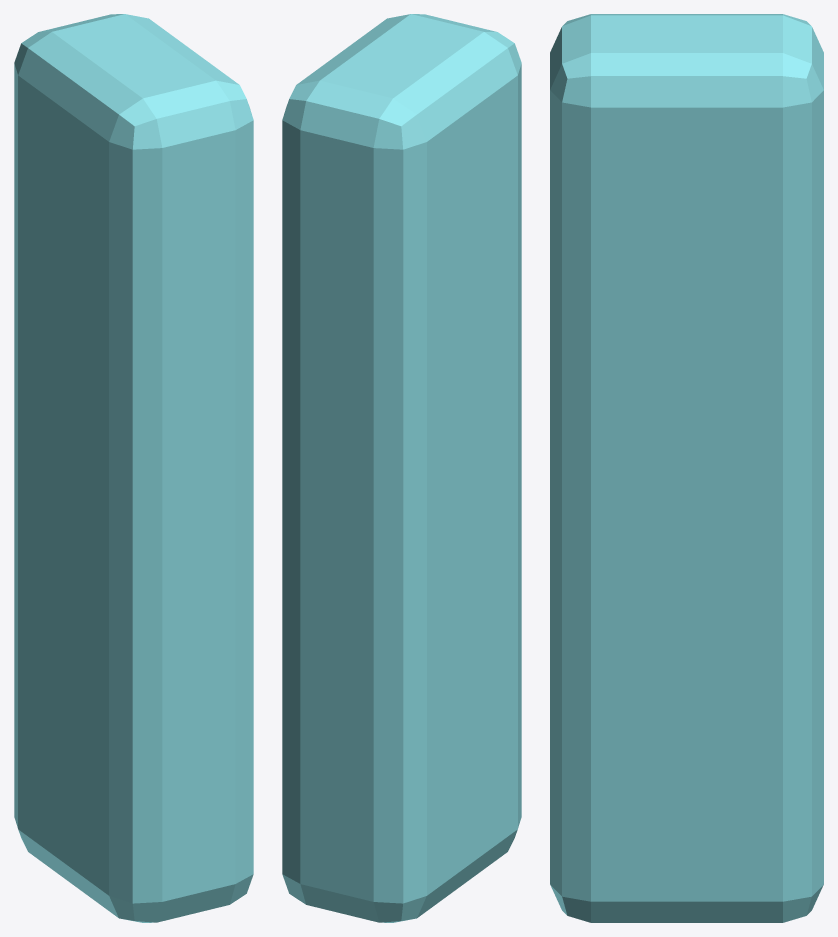
File: ShieldWall.fbx
3 views of the same model, side by side, from view 1: azimuth 30°, elevation 25°; view 2: azimuth 150°, elevation 25°; view 3: azimuth 270°, elevation 25° (orthographic). The views are drawn at different scales.
Parts seen in each view (by area): view 1: shield_wall; view 2: shield_wall; view 3: shield_wall.
Part boxes in pixels (left/top/right/bottom): shield_wall: left=14, top=14, right=253, bottom=922; shield_wall: left=282, top=14, right=521, bottom=922; shield_wall: left=550, top=14, right=823, bottom=922.
Size of the model in its own units: 0.25 by 1.4 by 0.4.
